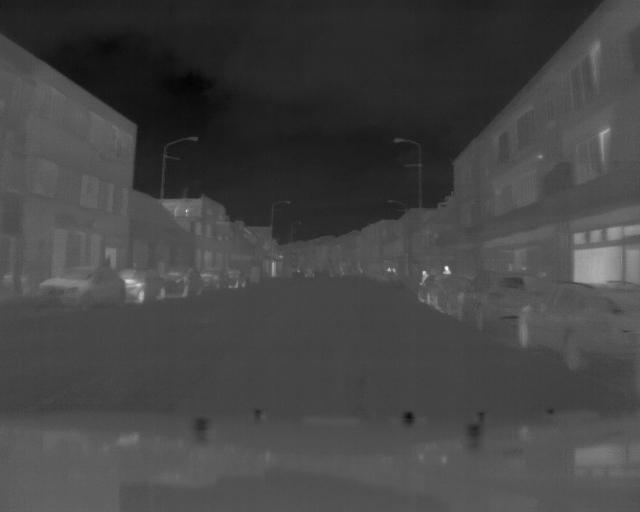car: (517, 287, 640, 370), (460, 270, 536, 335), (39, 260, 125, 306), (125, 266, 171, 304), (178, 261, 210, 294), (416, 275, 447, 306), (223, 268, 248, 289)
